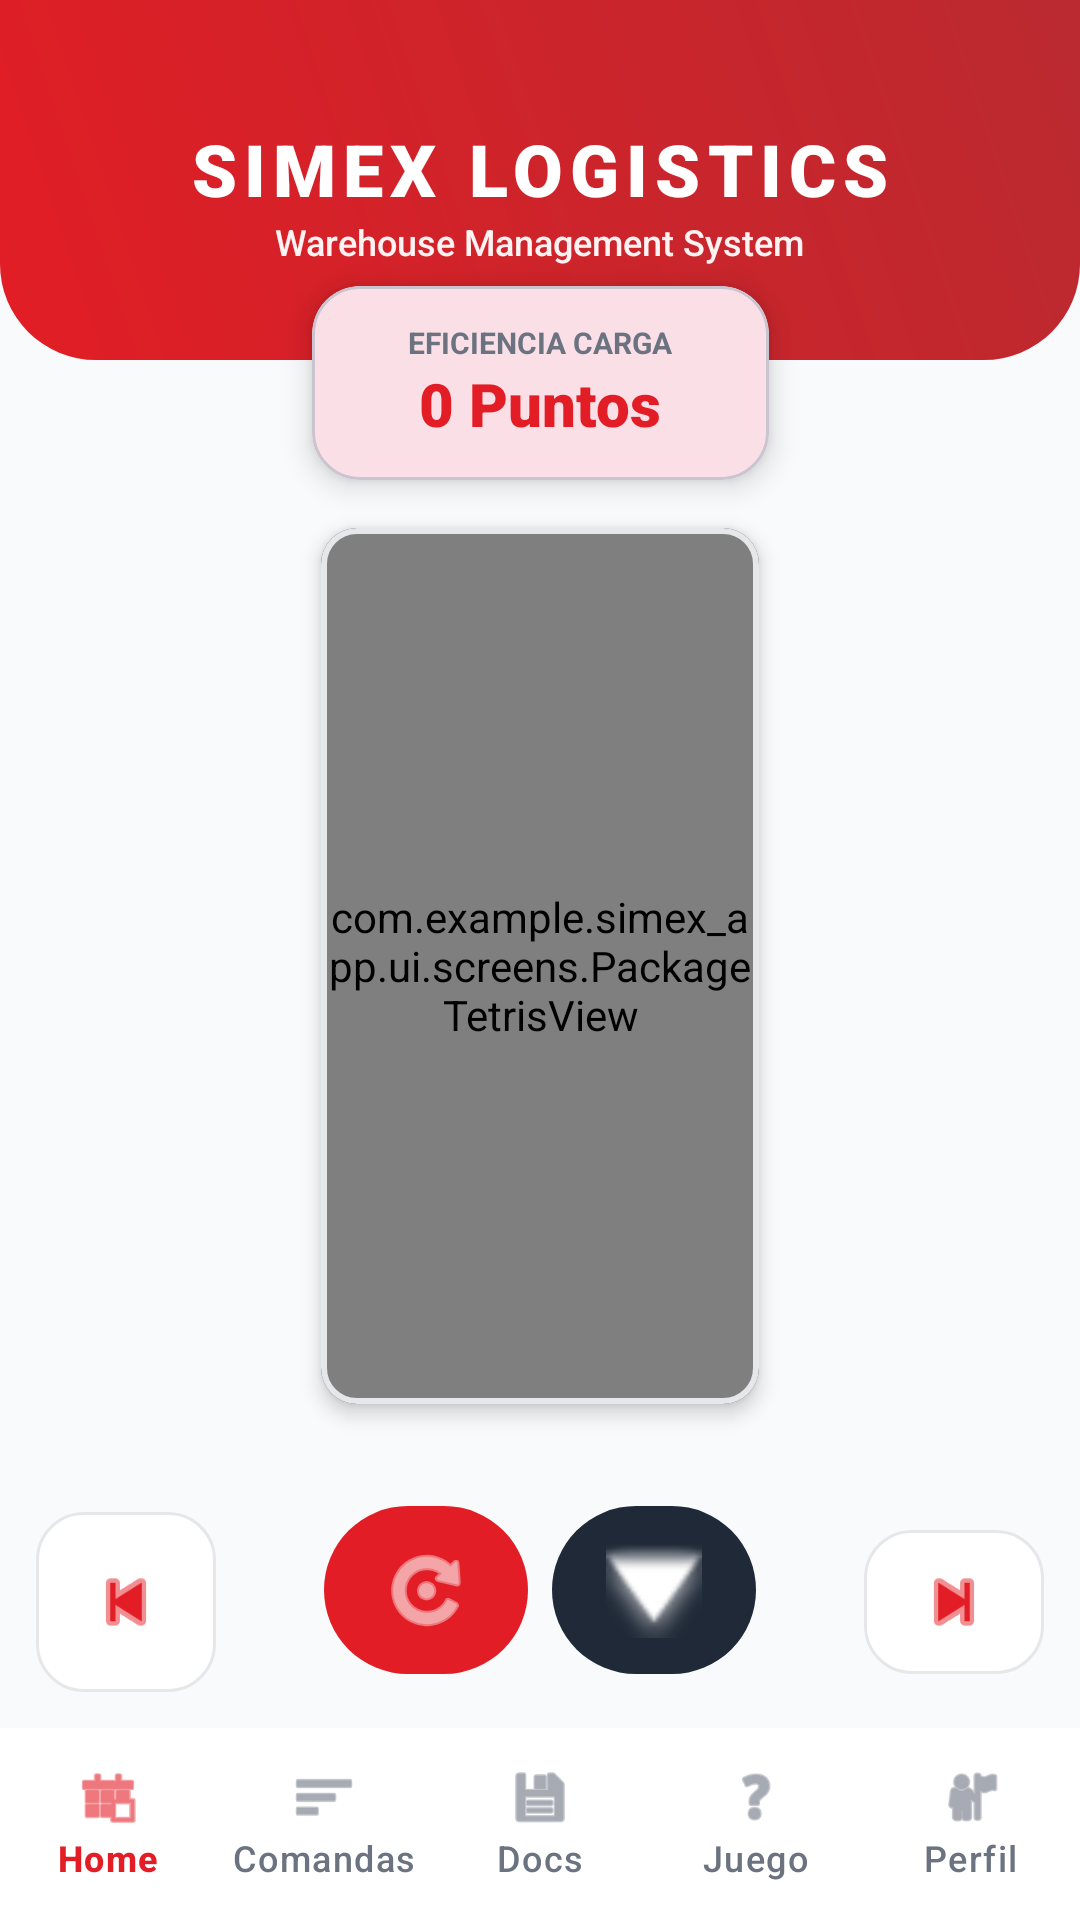

Named icons in this screenshot (1080px×1920px) and their bounding boxes, (x1, y1, x2, y2):
arrow down float: (552, 1506, 756, 1674)
next: (934, 1578, 974, 1626)
previous: (106, 1578, 146, 1626)
rotate: (324, 1506, 528, 1674)
